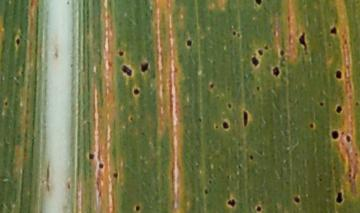tarspot: (298, 32, 308, 54), (121, 65, 132, 77), (242, 110, 249, 128), (139, 62, 149, 73), (226, 197, 236, 208), (250, 56, 260, 67), (271, 65, 280, 77), (335, 191, 344, 203), (330, 130, 339, 140), (221, 121, 230, 130), (334, 69, 342, 79), (344, 134, 352, 144), (132, 87, 140, 96), (292, 195, 301, 203), (256, 48, 264, 56), (329, 26, 337, 34), (14, 37, 21, 45), (185, 39, 192, 47), (226, 102, 233, 110), (278, 49, 285, 57), (335, 105, 342, 113), (88, 153, 95, 160), (255, 205, 262, 212), (254, 1, 263, 6), (112, 171, 119, 177), (118, 50, 124, 57), (263, 44, 269, 50), (308, 123, 314, 129), (98, 163, 103, 169), (209, 83, 214, 89), (207, 179, 213, 184), (204, 189, 209, 195), (214, 124, 220, 129), (255, 85, 260, 91), (248, 154, 253, 160), (354, 101, 359, 107), (135, 205, 140, 210), (197, 117, 202, 122), (129, 116, 134, 121), (318, 101, 323, 106), (65, 1, 71, 5), (4, 101, 8, 106), (232, 31, 236, 35)
